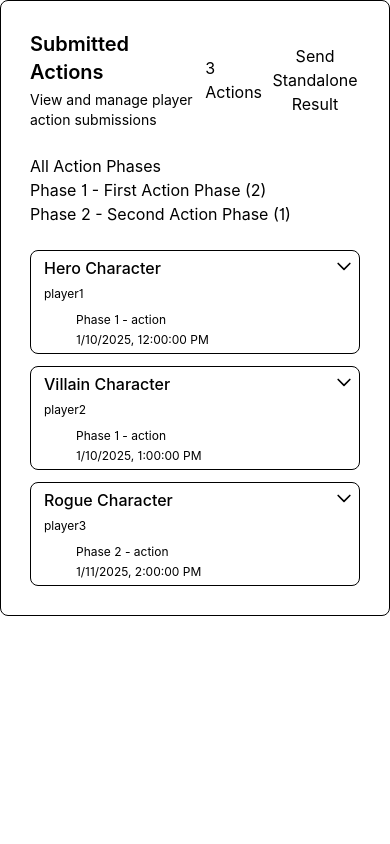
Test case: ActionsList › Action Cards › expands action card on click
Click the heading "Hero Character" at [102, 268], box top-left (44, 258), bottom-right (161, 278)
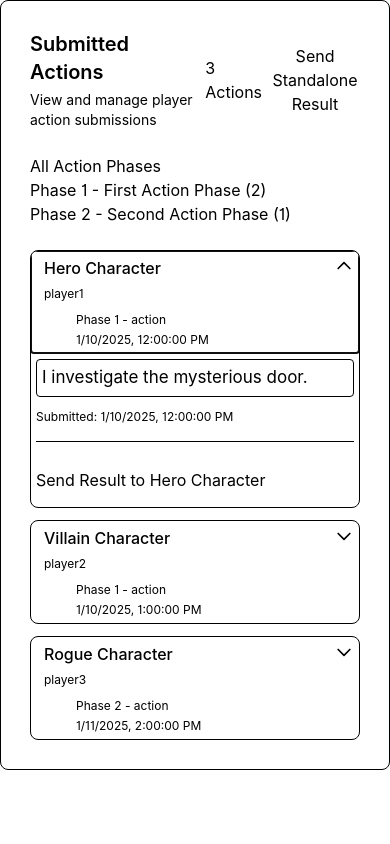
Now the text "I investigate the mysterious door." is shown, box top-left (42, 365), bottom-right (348, 390)
